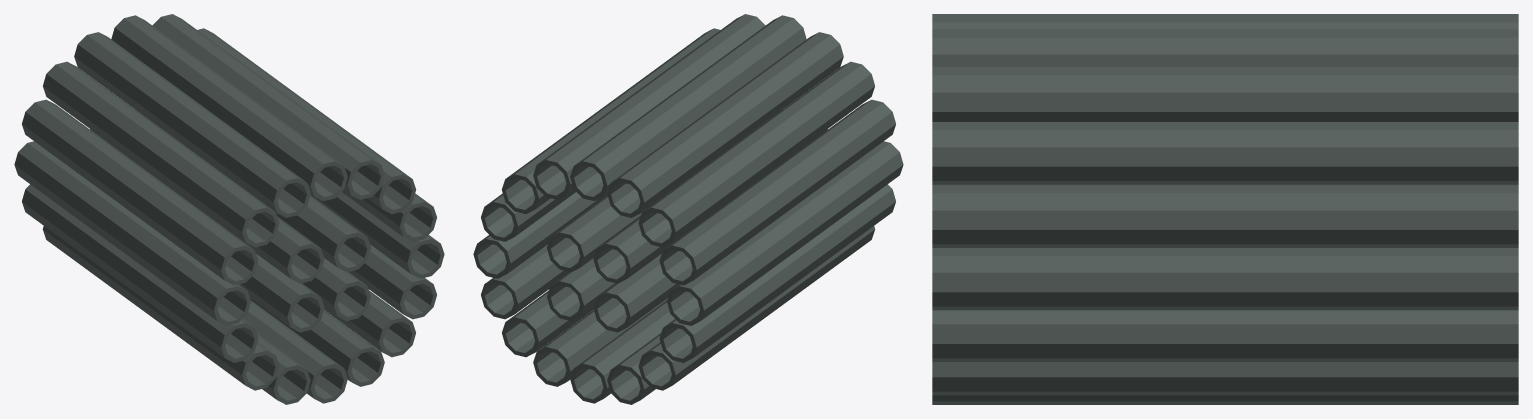
File: Rocket80Twenty__TubeLiners.obj
3 views of the same model, side by side, from view 1: azimuth 30°, elevation 25°; view 2: azimuth 150°, elevation 25°; view 3: azimuth 270°, elevation 25° (orthographic). The views are drawn at different scales.
Parts seen in each view (by area): view 1: Tube_10, Tube_12, Tube_11, Tube_13, Tube_09, Tube_14, Tube_08, Tube_15, Tube_05, Tube_17, Tube_03, Tube_01 (+8 smaller); view 2: Tube_10, Tube_12, Tube_11, Tube_13, Tube_09, Tube_14, Tube_08, Tube_15, Tube_05, Tube_17, Tube_03, Tube_01 (+8 smaller); view 3: Tube_05, Tube_06, Tube_07, Tube_08, Tube_20, Tube_09, Tube_19, Tube_10, Tube_18, Tube_01.
Boxes of the visible parts, box(x1,y1,x2,y2) form: Tube_10: box(74, 32, 310, 217); Tube_12: box(22, 99, 258, 285); Tube_11: box(43, 61, 279, 247); Tube_13: box(14, 141, 250, 325); Tube_09: box(111, 15, 347, 201); Tube_14: box(22, 184, 258, 362); Tube_08: box(152, 14, 384, 199); Tube_15: box(42, 226, 279, 390); Tube_05: box(310, 192, 444, 278); Tube_17: box(243, 300, 347, 403); Tube_03: box(239, 254, 324, 332); Tube_01: box(276, 195, 370, 272); Tube_10: box(607, 32, 843, 217); Tube_12: box(659, 99, 895, 285); Tube_11: box(638, 61, 874, 247); Tube_13: box(667, 141, 903, 325); Tube_09: box(570, 15, 806, 201); Tube_14: box(659, 184, 895, 362); Tube_08: box(533, 14, 765, 199); Tube_15: box(638, 226, 875, 390); Tube_05: box(473, 192, 607, 278); Tube_17: box(570, 300, 674, 403); Tube_03: box(593, 254, 678, 332); Tube_01: box(547, 195, 641, 272); Tube_05: box(932, 248, 1518, 310); Tube_06: box(932, 185, 1518, 247); Tube_07: box(932, 122, 1518, 184); Tube_08: box(932, 67, 1518, 121); Tube_20: box(932, 310, 1518, 361); Tube_09: box(932, 29, 1518, 66); Tube_19: box(932, 362, 1518, 395); Tube_10: box(932, 14, 1518, 29); Tube_18: box(932, 395, 1518, 404); Tube_01: box(932, 184, 1518, 185).
Bounding box in the file's own units: 1.05 × 1.04 × 1.57.
